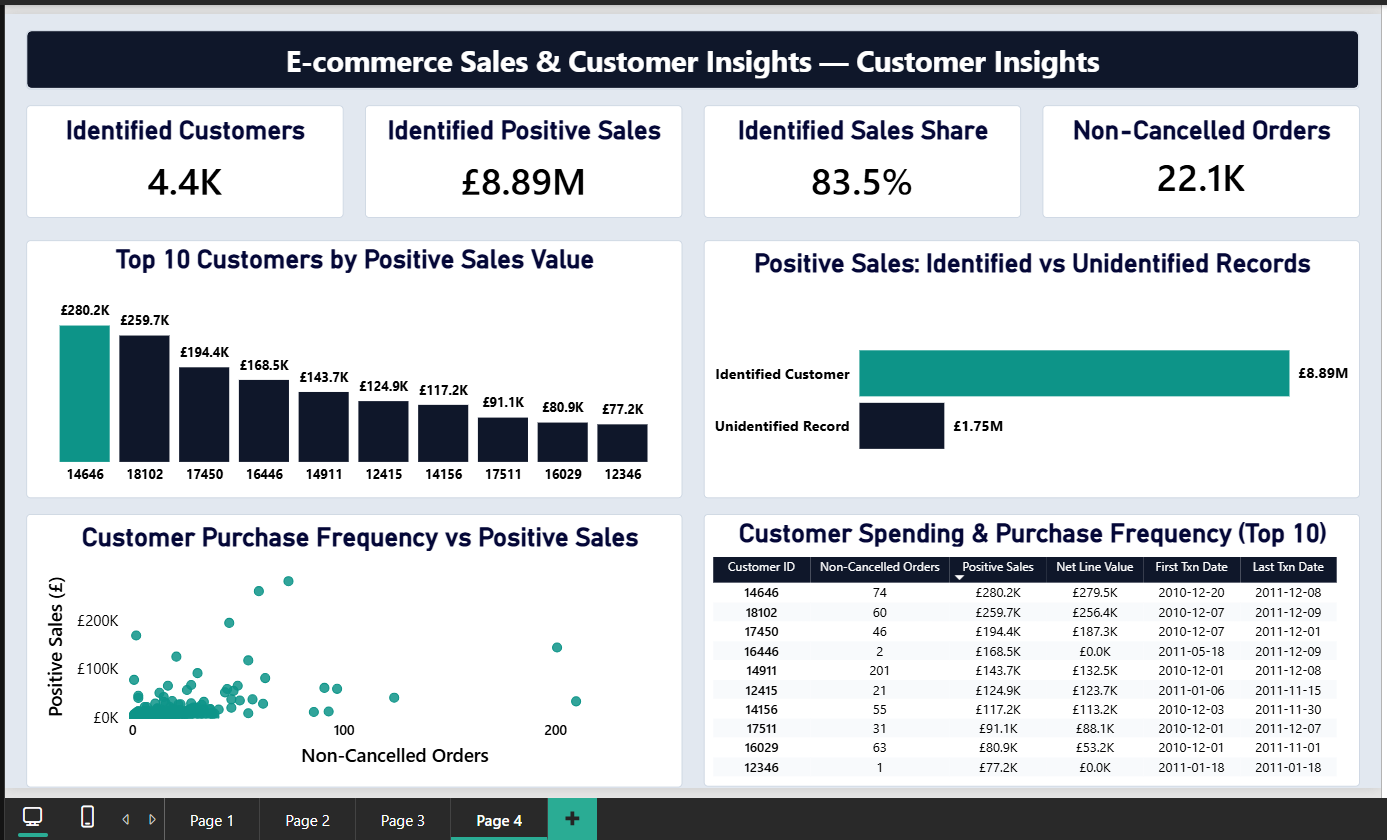

This screenshot's page, from the dashboard's own definition file:
{"tool":"powerbi","page":{"name":"Page 4","canvas":[1280,720],"ordinal":3},"visuals":[{"type":"cardVisual","title":"Identified Customers","fields":{"Data":["_Measures.Identified Customers"]},"box":[20,85,295,105],"z":0},{"type":"cardVisual","title":"Identified Positive Sales","fields":{"Data":["_Measures.Identified Positive Sales"]},"box":[335,85,295,105],"z":1000},{"type":"cardVisual","title":"Identified Sales Share","fields":{"Data":["_Measures.Identified Sales Share"]},"box":[650,85,295,105],"z":2000},{"type":"cardVisual","title":"Non-Cancelled Orders","fields":{"Data":["_Measures.Customer Orders"]},"box":[965,85,295,105],"z":3000},{"type":"shape","title":"E-commerce Sales & Customer Insights — Executive Overview","box":[20.1,15,1240.2,55],"z":4000},{"type":"scatterChart","title":"Customer Purchase Frequency vs Positive Sales","fields":{"Category":["online_retail_mysql.CustomerID"],"X":["_Measures.Customer Orders"],"Y":["_Measures.Identified Positive Sales"]},"box":[20,465,610,254],"z":5000},{"type":"clusteredBarChart","title":"Positive Sales: Identified vs Unidentified Records","fields":{"Category":["online_retail_mysql.Customer Type"],"Y":["_Measures.Gross Positive Sales"]},"box":[650,210,610,240],"z":6000},{"type":"clusteredColumnChart","title":"Top 10 Customers by Positive Sales Value","fields":{"Category":["online_retail_mysql.CustomerID"],"Y":["_Measures.Identified Positive Sales"]},"box":[20,210,610,240],"z":7000},{"type":"pivotTable","title":"Customer Spending & Purchase Frequency (Top 10)","fields":{"Rows":["online_retail_mysql.Customer ID"],"Values":["_Measures.Orders","_Measures.Positive Sales","_Measures.Net Value","_Measures.First Order","_Measures.Last Order"]},"box":[650,465,610,253.8],"z":8000}]}

Visuals, with their boxes on the page's 1280x720 design canvas (x1, y1, x2, y2). These are canvas units, not pixel positions in the 1387x840 screenshot, which may show the page scaled, cropped or inside an application window:
"Identified Customers" cardVisual: 20/85/315/190
"Identified Positive Sales" cardVisual: 335/85/630/190
"Identified Sales Share" cardVisual: 650/85/945/190
"Non-Cancelled Orders" cardVisual: 965/85/1260/190
"E-commerce Sales & Customer Insights — Executive Overview" shape: 20/15/1260/70
"Customer Purchase Frequency vs Positive Sales" scatterChart: 20/465/630/719
"Positive Sales: Identified vs Unidentified Records" clusteredBarChart: 650/210/1260/450
"Top 10 Customers by Positive Sales Value" clusteredColumnChart: 20/210/630/450
"Customer Spending & Purchase Frequency (Top 10)" pivotTable: 650/465/1260/719
